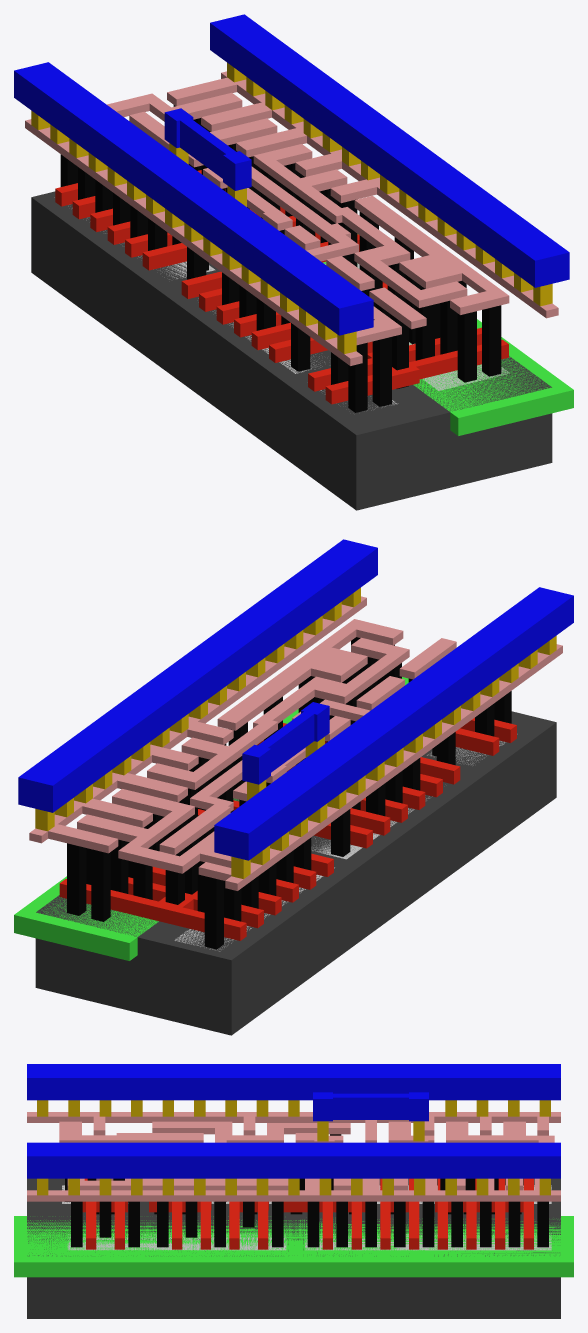
Rendered from sky130_fd_sc_hd__a221o_4.obj.
3 renders of one model, top to bottom at view 1: azimuth 30°, elevation 25°; view 2: azimuth 150°, elevation 25°; view 3: azimuth 270°, elevation 25°, orthographic. The views are drawn at different scales.
Visible parts, largest first — view 1: subs, metal1, li, licon, poly, mcon, nwell, tap; view 2: subs, metal1, li, licon, poly, mcon, nwell, diff; view 3: metal1, subs, nwell, li, licon, poly, mcon, tap.
Part boxes in pixels (left/top/right/bottom): subs: left=31, top=191, right=552, bottom=510; metal1: left=14, top=14, right=569, bottom=335; li: left=25, top=71, right=558, bottom=365; licon: left=60, top=105, right=501, bottom=412; poly: left=55, top=170, right=508, bottom=404; mcon: left=31, top=62, right=552, bottom=353; nwell: left=322, top=234, right=573, bottom=435; tap: left=323, top=262, right=509, bottom=390; subs: left=35, top=711, right=556, bottom=1035; metal1: left=18, top=539, right=573, bottom=860; li: left=29, top=596, right=562, bottom=890; licon: left=67, top=637, right=511, bottom=949; poly: left=59, top=717, right=516, bottom=940; mcon: left=35, top=587, right=556, bottom=878; nwell: left=14, top=677, right=408, bottom=960; diff: left=174, top=734, right=517, bottom=951; metal1: left=27, top=1064, right=560, bottom=1178; subs: left=27, top=1178, right=560, bottom=1318; nwell: left=14, top=1216, right=573, bottom=1277; li: left=27, top=1112, right=560, bottom=1201; licon: left=65, top=1134, right=548, bottom=1247; poly: left=82, top=1178, right=533, bottom=1249; mcon: left=37, top=1100, right=550, bottom=1195; tap: left=67, top=1231, right=551, bottom=1250.
Bounding box in the file's own units: 3.2 × 2.74 × 8.2.
